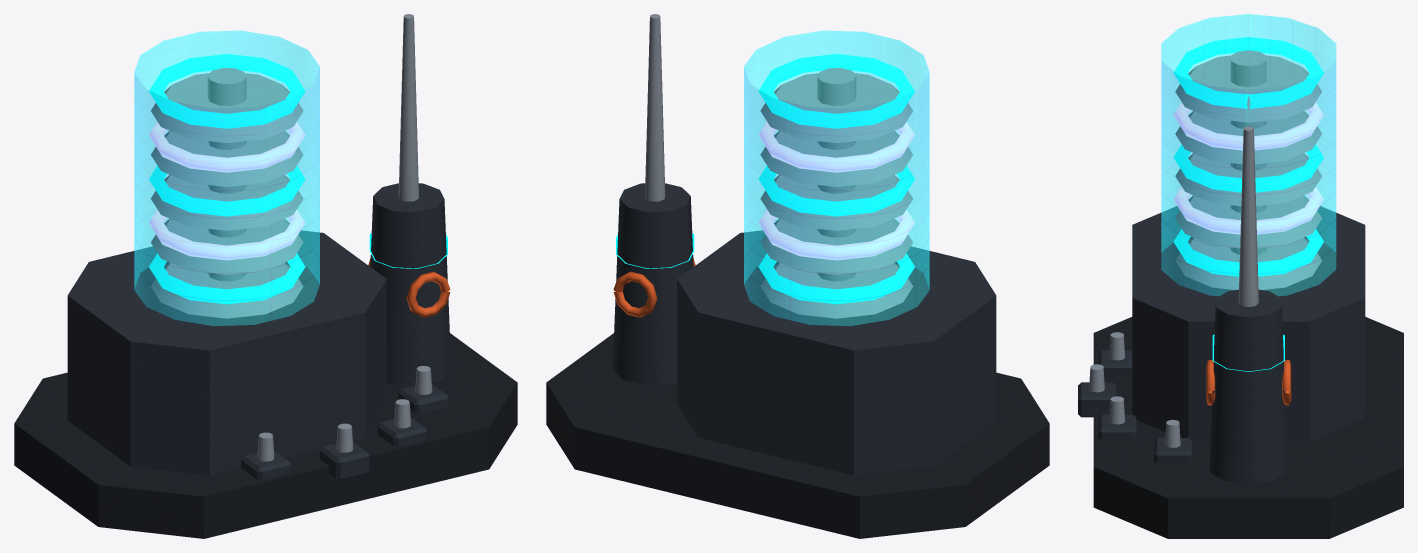
The model's file is prop_03_r1_04.glb.
The picture shows the model from 3 angles, left to right: view 1: azimuth 30°, elevation 25°; view 2: azimuth 150°, elevation 25°; view 3: azimuth 270°, elevation 25°; orthographic projection. The views are drawn at different scales.
Visible parts, largest first — view 1: Prop03_C04_carbon_slate, Prop03_C04_glass_cyan, Prop03_C04_gunmetal, Prop03_C04_steel_machined, Prop03_C04_led_cyan, Prop03_C04_led_uv, Prop03_C04_accent_orange; view 2: Prop03_C04_carbon_slate, Prop03_C04_glass_cyan, Prop03_C04_gunmetal, Prop03_C04_steel_machined, Prop03_C04_led_cyan, Prop03_C04_led_uv, Prop03_C04_accent_orange; view 3: Prop03_C04_carbon_slate, Prop03_C04_glass_cyan, Prop03_C04_gunmetal, Prop03_C04_steel_machined, Prop03_C04_led_cyan, Prop03_C04_led_uv, Prop03_C04_accent_orange.
Part boxes in pixels (x1,y1,x2,y2): Prop03_C04_carbon_slate: (67, 183, 451, 481); Prop03_C04_glass_cyan: (134, 30, 319, 325); Prop03_C04_gunmetal: (14, 333, 517, 538); Prop03_C04_steel_machined: (151, 14, 432, 461); Prop03_C04_led_cyan: (149, 54, 447, 304); Prop03_C04_led_uv: (149, 122, 305, 260); Prop03_C04_accent_orange: (368, 258, 450, 317); Prop03_C04_carbon_slate: (612, 183, 996, 475); Prop03_C04_glass_cyan: (744, 30, 929, 325); Prop03_C04_gunmetal: (546, 333, 1049, 538); Prop03_C04_steel_machined: (645, 14, 912, 318); Prop03_C04_led_cyan: (616, 54, 914, 304); Prop03_C04_led_uv: (758, 122, 914, 260); Prop03_C04_accent_orange: (613, 258, 695, 317); Prop03_C04_carbon_slate: (1078, 206, 1365, 484); Prop03_C04_glass_cyan: (1161, 14, 1336, 295); Prop03_C04_gunmetal: (1093, 317, 1403, 538); Prop03_C04_steel_machined: (1089, 50, 1321, 447); Prop03_C04_led_cyan: (1173, 37, 1323, 371); Prop03_C04_led_uv: (1173, 102, 1323, 234); Prop03_C04_accent_orange: (1206, 360, 1291, 405).
Bounding box in the file's own units: 2.7 × 2.42 × 1.89.
7 materials, 7 textured.
